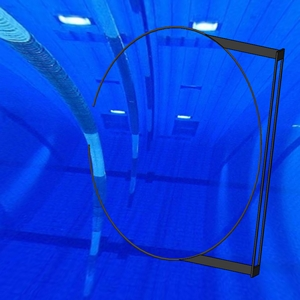circle: (87, 25, 286, 279)
